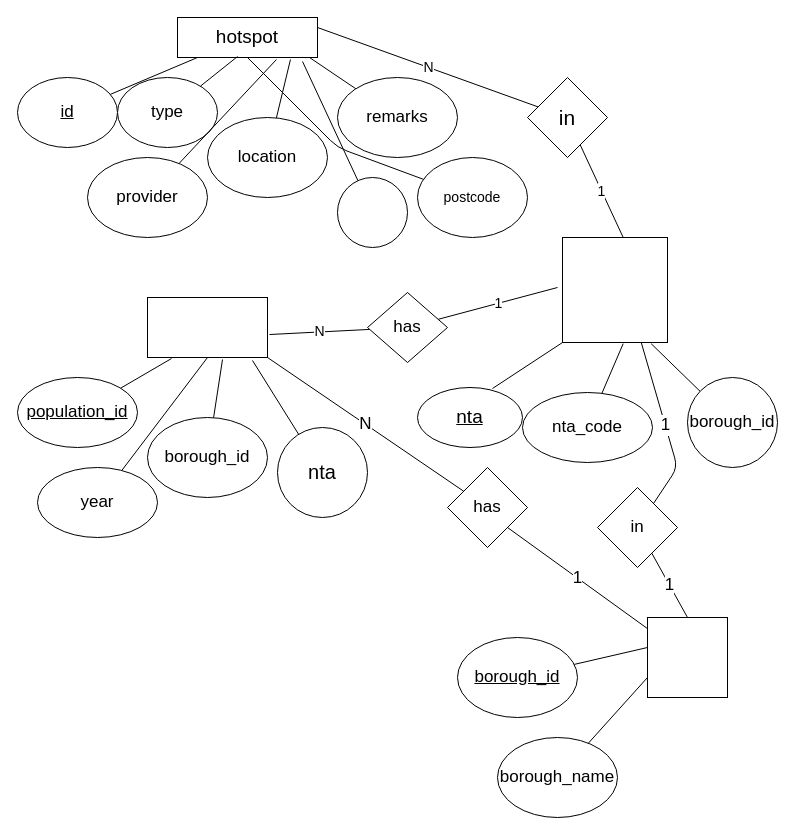
Image size: 795x835. Some labels were removed from this diagram. Each missing label, with the centre of its shape:
"borough" belongs at [687,657].
"neighborhood" belongs at [615,289].
"population" belongs at [207,327].
"ssid" belongs at [372,212].
